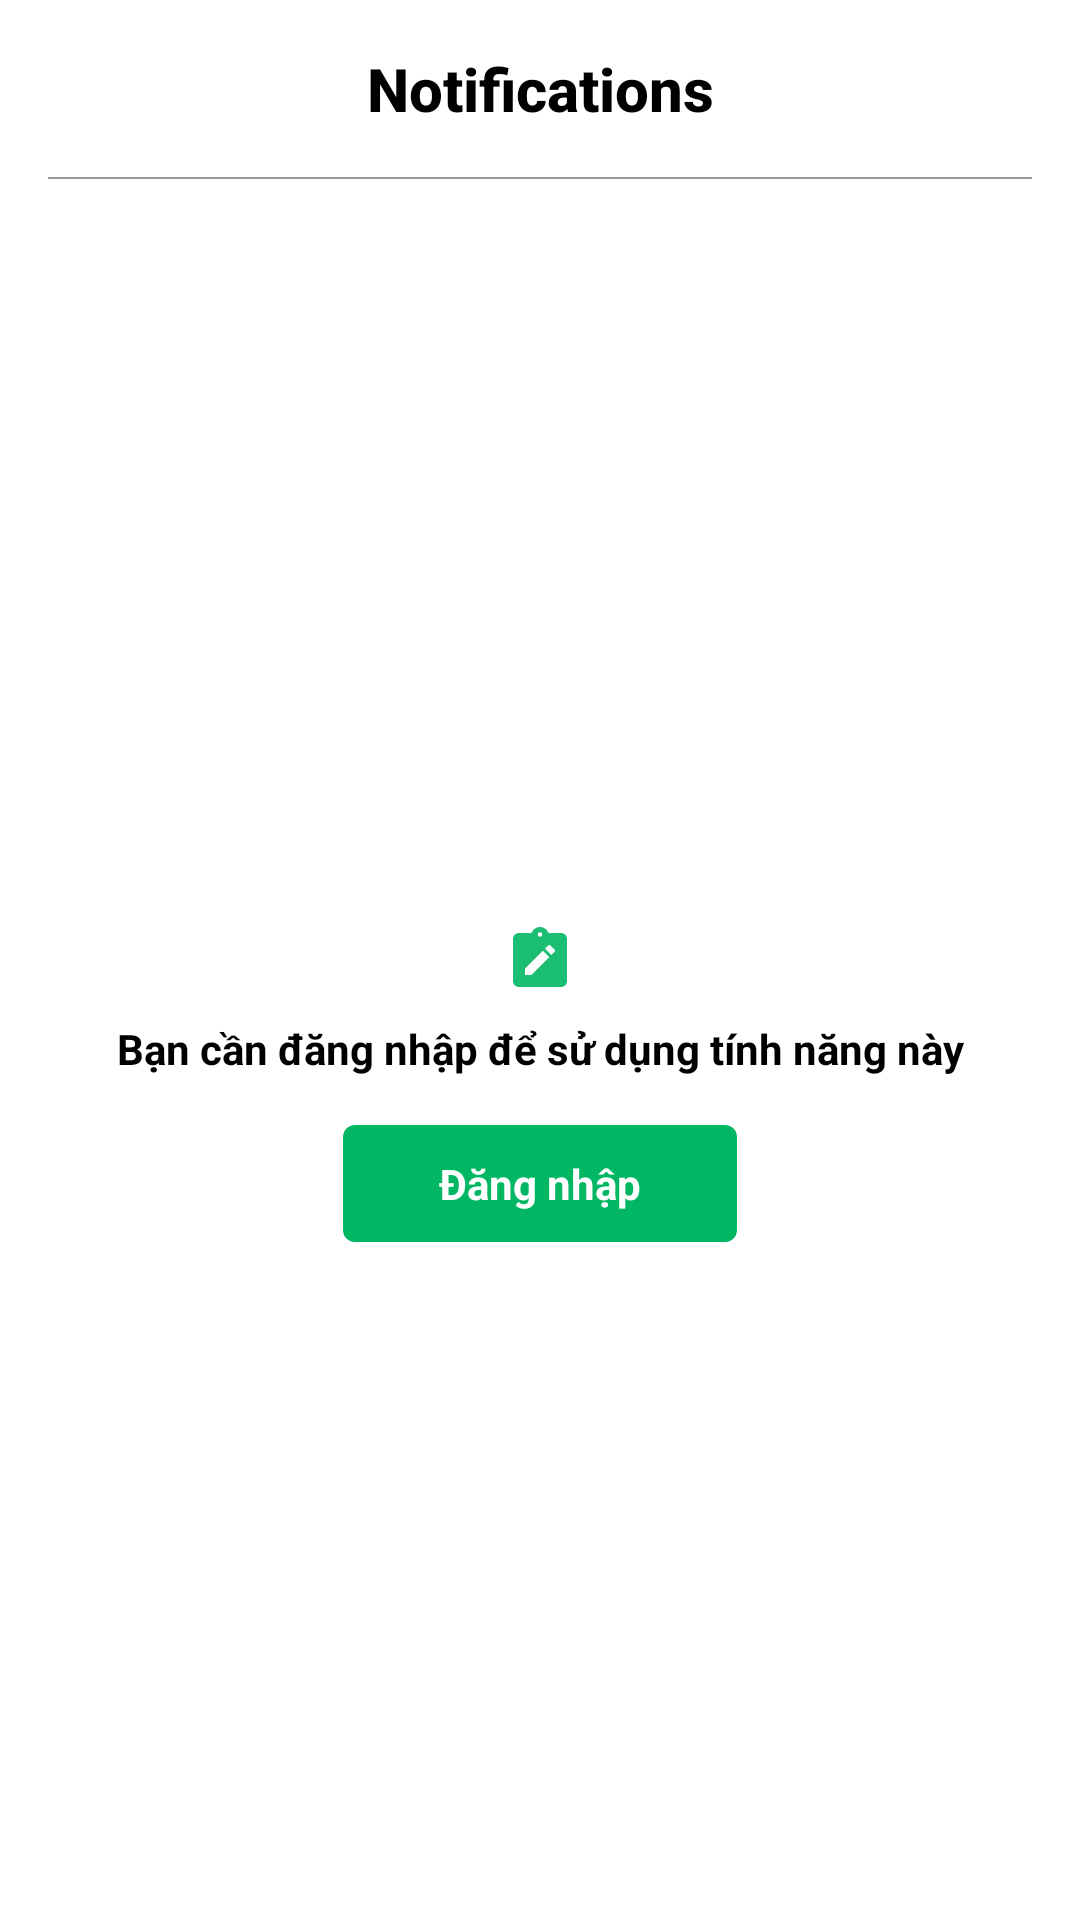

Point at icon controls on the screen. Image size 1080x1920, points as (x=x, y=y).
note: (x=540, y=957)
